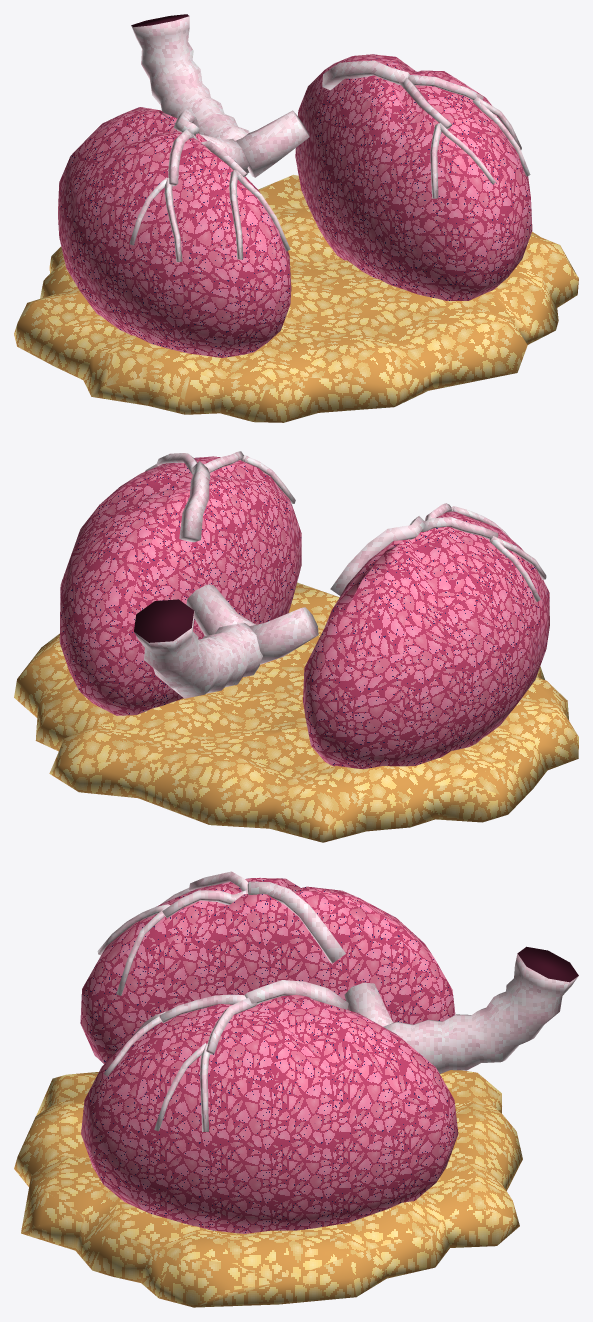
The model's file is s_lung.glb.
3 renders of one model, top to bottom at view 1: azimuth 30°, elevation 25°; view 2: azimuth 150°, elevation 25°; view 3: azimuth 270°, elevation 25°, orthographic. The views are drawn at different scales.
Parts seen in each view (by area): view 1: lung_lung_tissue, lung_lung_fat, lung_lung_bronchi; view 2: lung_lung_tissue, lung_lung_fat, lung_lung_bronchi; view 3: lung_lung_tissue, lung_lung_fat, lung_lung_bronchi.
Part boxes in pixels (x1,y1,x2,y2): lung_lung_tissue: [58, 54, 532, 357]; lung_lung_fat: [14, 174, 578, 422]; lung_lung_bronchi: [129, 14, 530, 262]; lung_lung_tissue: [59, 456, 549, 769]; lung_lung_fat: [14, 582, 578, 842]; lung_lung_bronchi: [134, 451, 546, 698]; lung_lung_tissue: [80, 877, 458, 1233]; lung_lung_fat: [14, 1070, 522, 1307]; lung_lung_bronchi: [97, 871, 578, 1131].
Size of what is drawn, in the model's own units: 6.93 by 3.09 by 6.48.
Materials: 4 (3 with a texture image).
